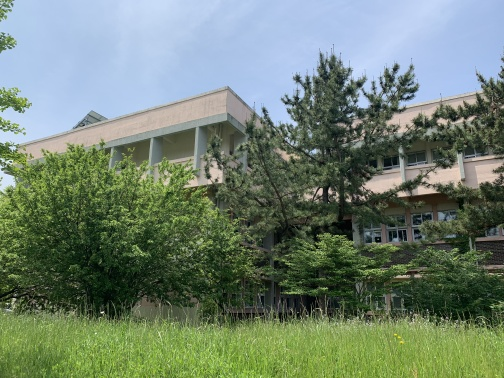College Of Education: (9, 82, 504, 305)
